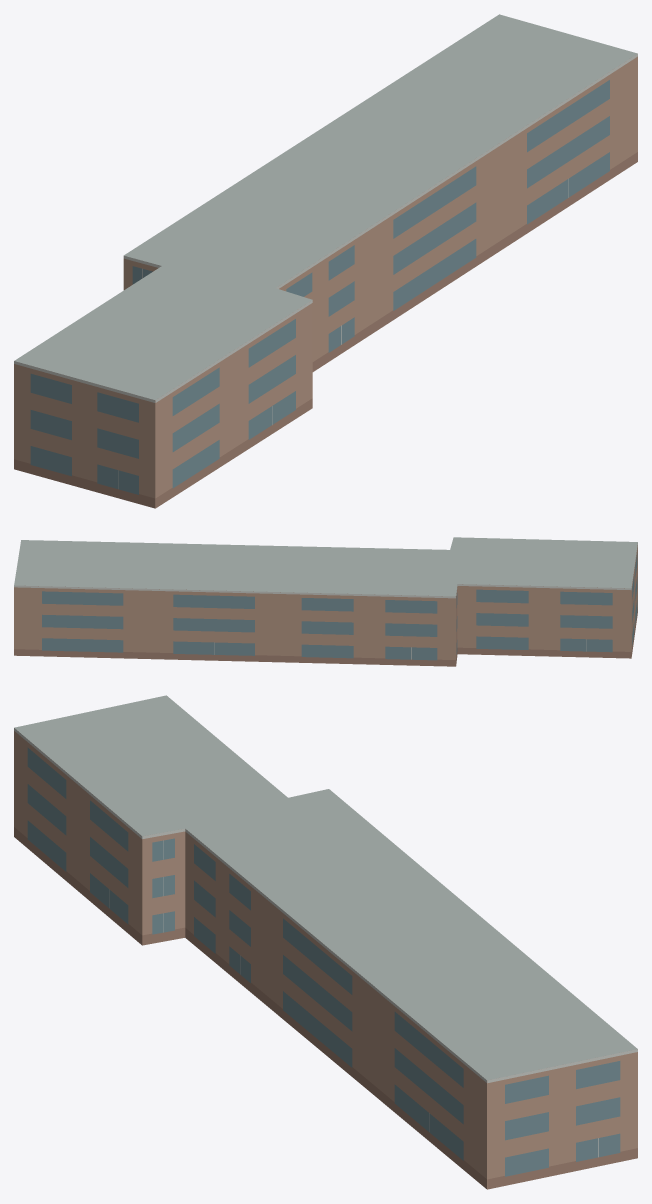
Rendered from survey-upis-32901202.glb.
3 renders of one model, top to bottom at view 1: azimuth 30°, elevation 25°; view 2: azimuth 150°, elevation 25°; view 3: azimuth 270°, elevation 25°, orthographic. The views are drawn at different scales.
Parts seen in each view (by area): view 1: survey-upis-32901202.tmp; view 2: survey-upis-32901202.tmp; view 3: survey-upis-32901202.tmp.
Part boxes in pixels (x1,y1,x2,y2): survey-upis-32901202.tmp: (14, 14, 637, 508); survey-upis-32901202.tmp: (14, 537, 637, 666); survey-upis-32901202.tmp: (14, 695, 637, 1189).
Bounding box in the file's own units: 69.21 × 9.15 × 47.39.
